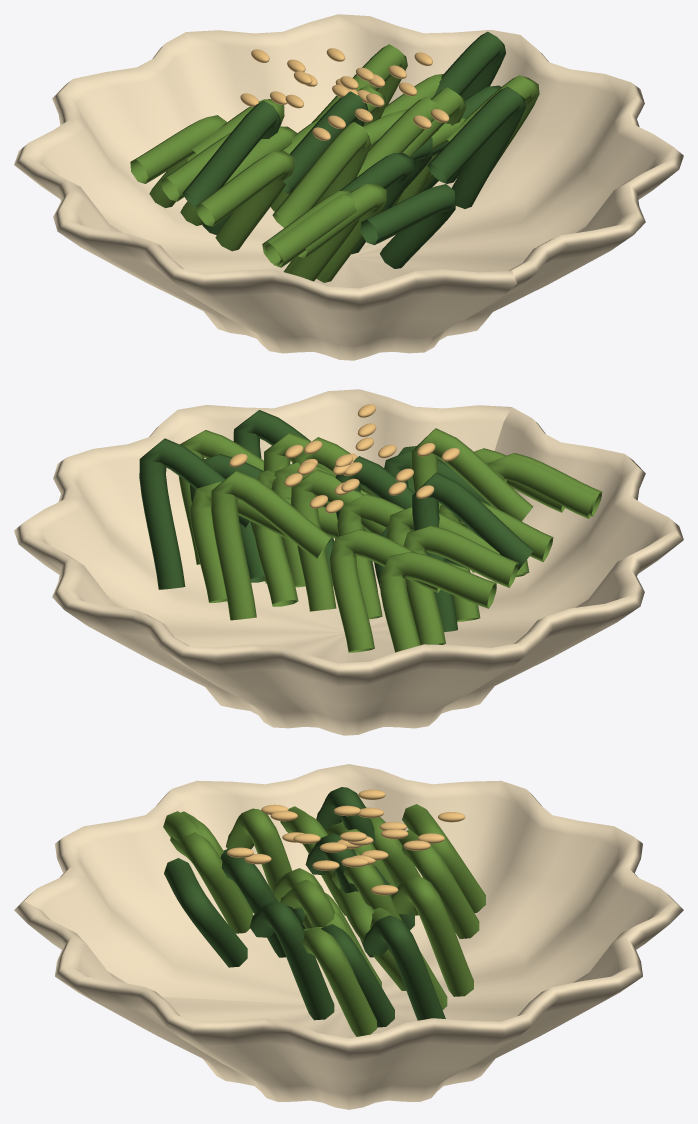
Rendered from 43-greens.glb.
3 views of the same model, one above another, from view 1: azimuth 30°, elevation 25°; view 2: azimuth 150°, elevation 25°; view 3: azimuth 270°, elevation 25° (orthographic).
Visible parts, largest first — view 1: 제철 채소 오히타시; view 2: 제철 채소 오히타시; view 3: 제철 채소 오히타시.
Boxes of the visible parts, box(x1,y1,x2,y2) form: 제철 채소 오히타시: box(14, 14, 683, 360); 제철 채소 오히타시: box(14, 389, 683, 735); 제철 채소 오히타시: box(14, 764, 683, 1109).
Bounding box in the file's own units: 1.7 × 0.6069 × 1.7.
